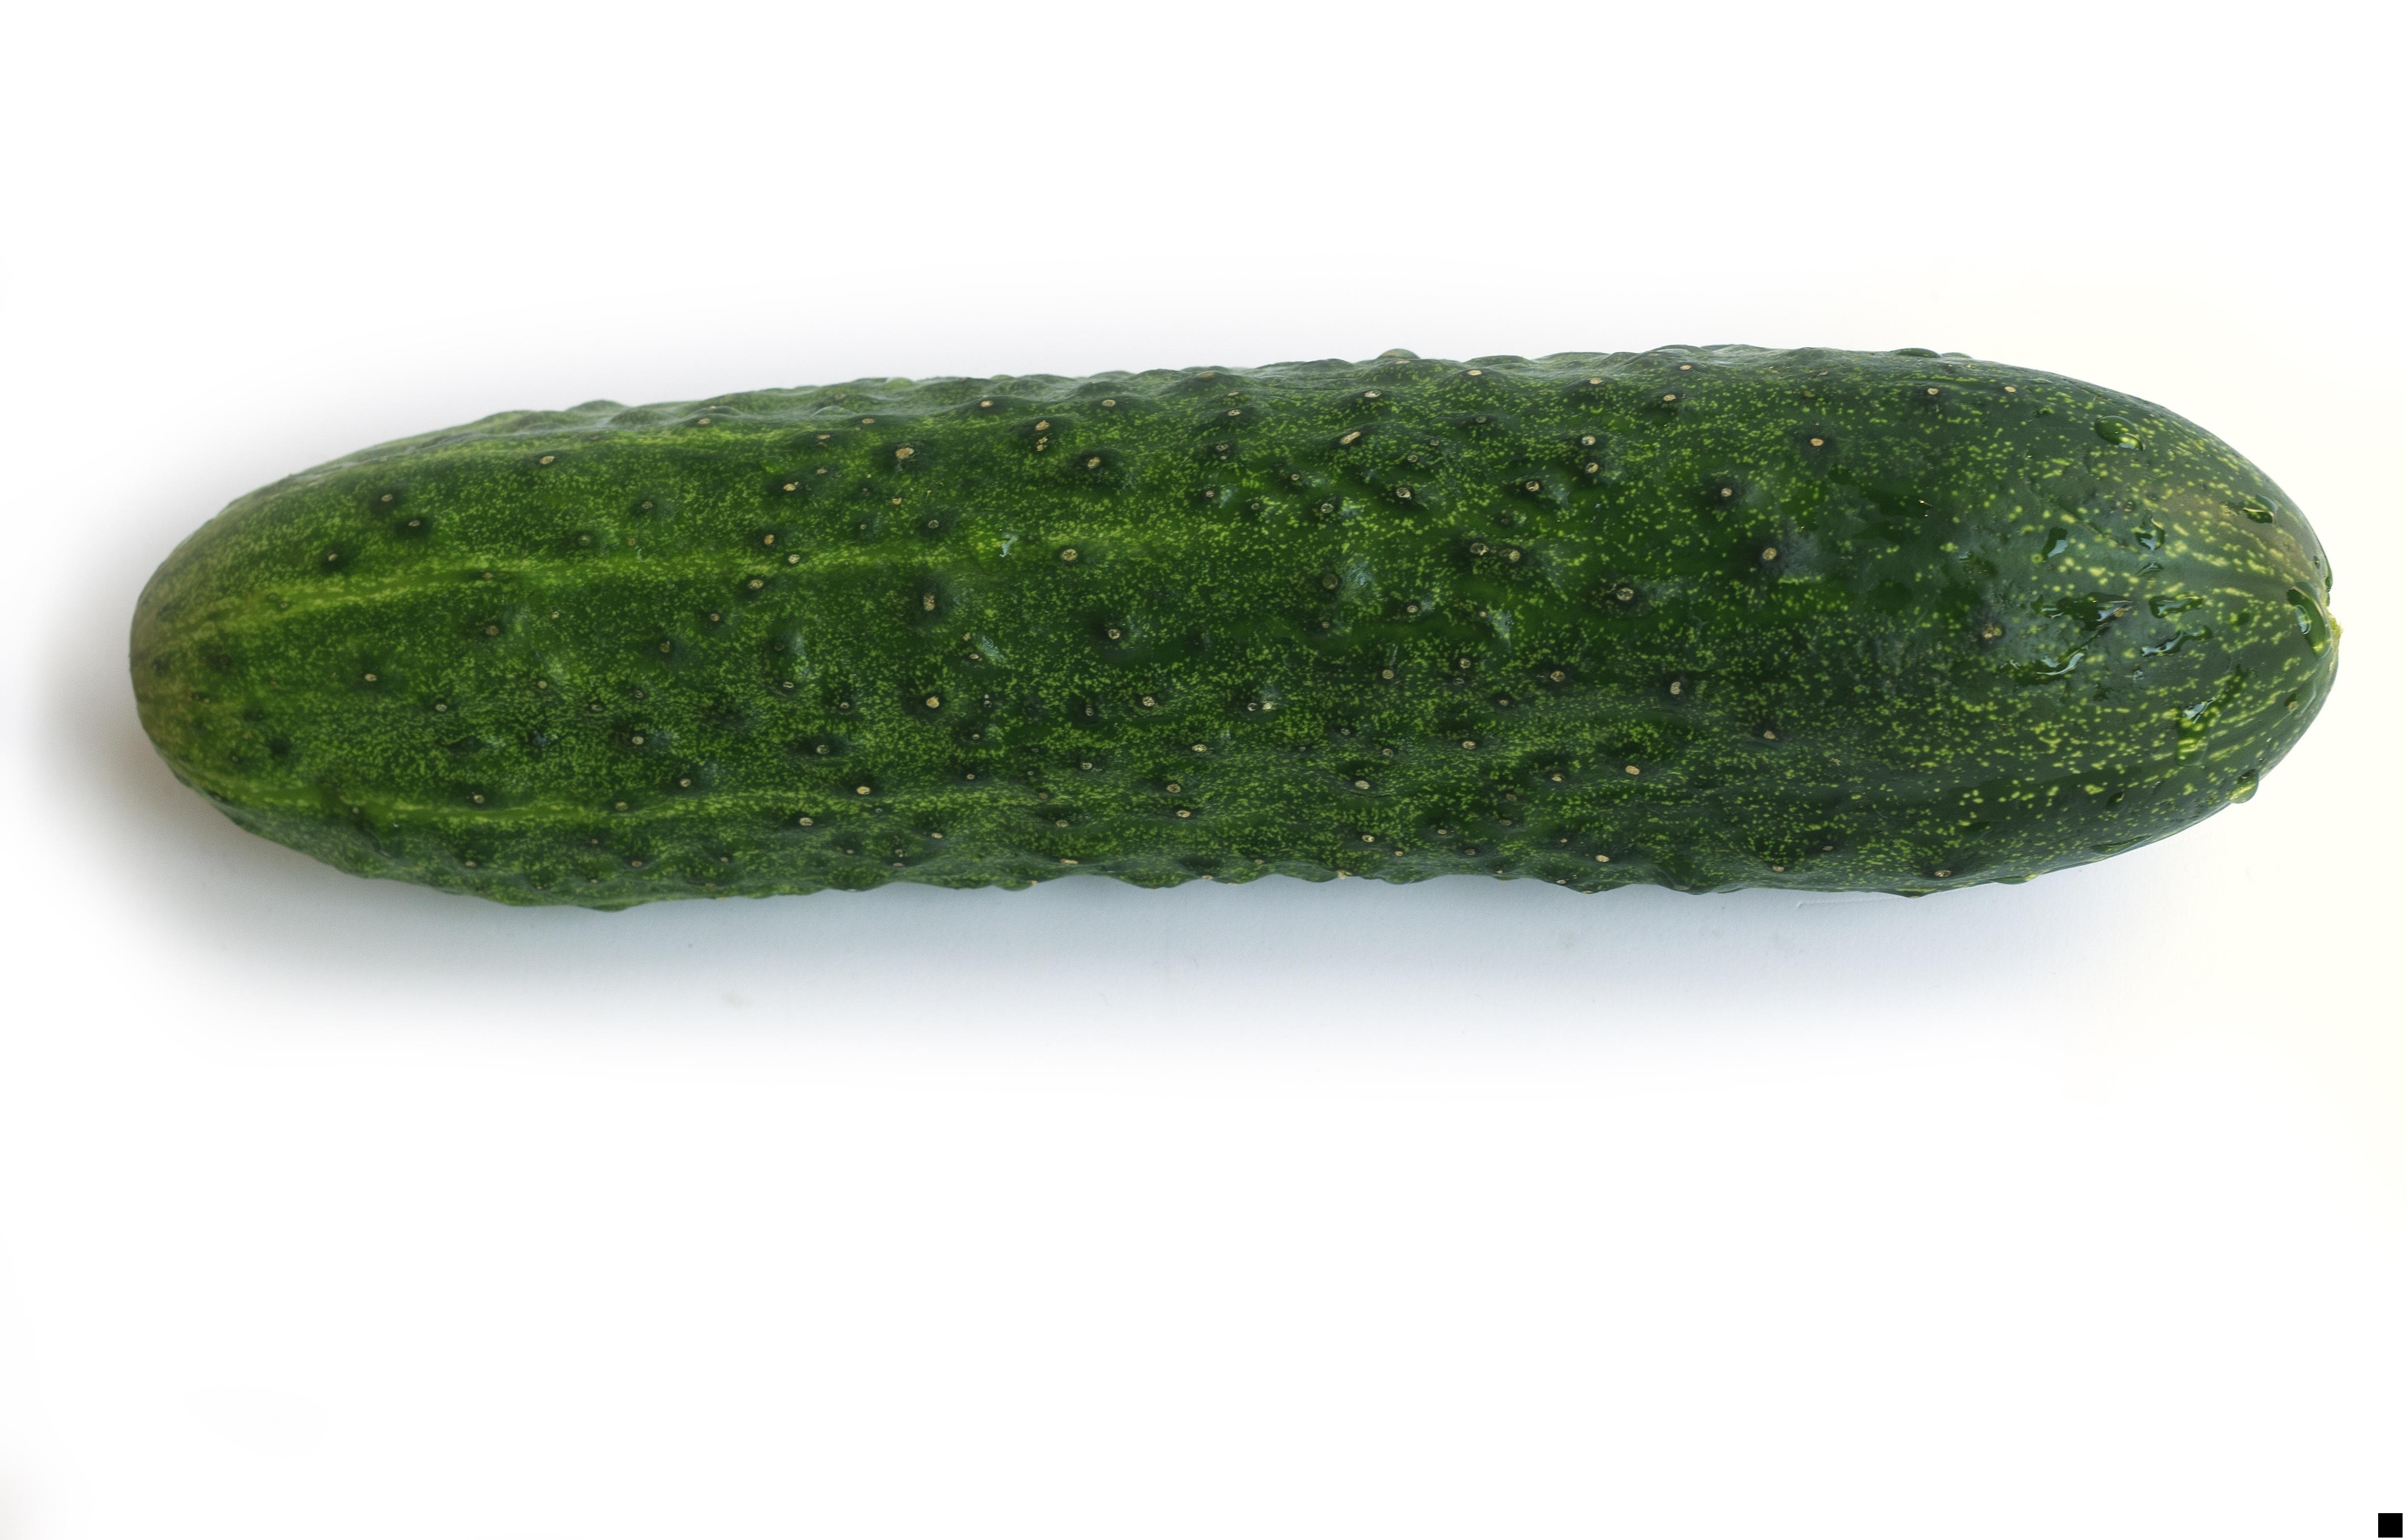cucumber: (112, 319, 2332, 900)
